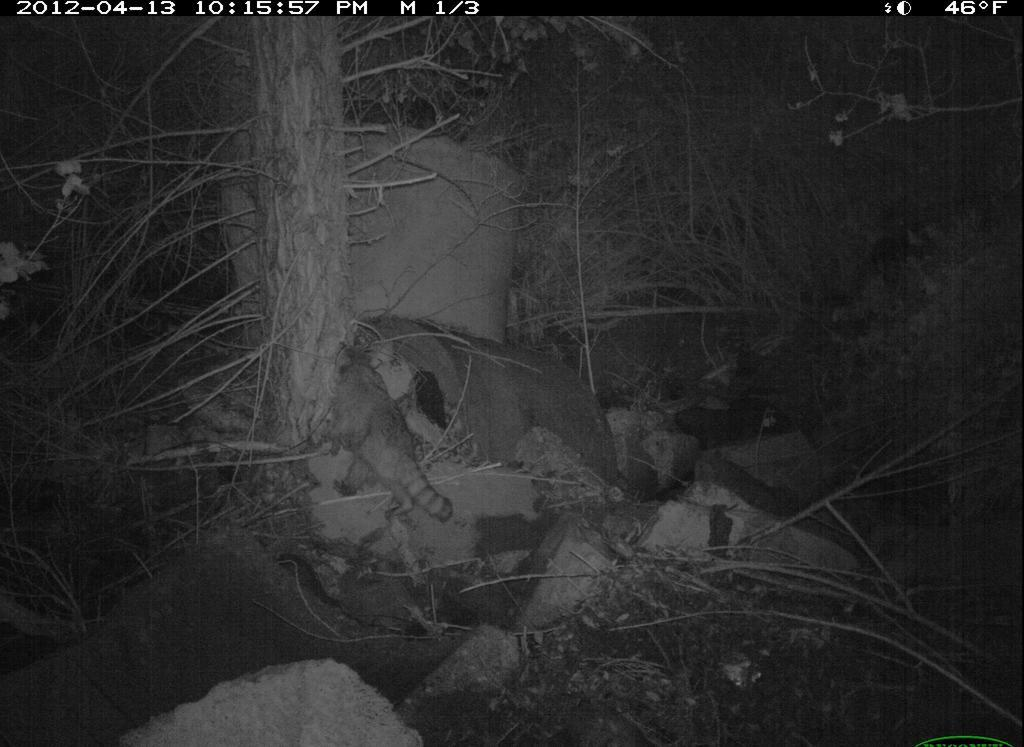raccoon: (314, 345, 463, 546)
